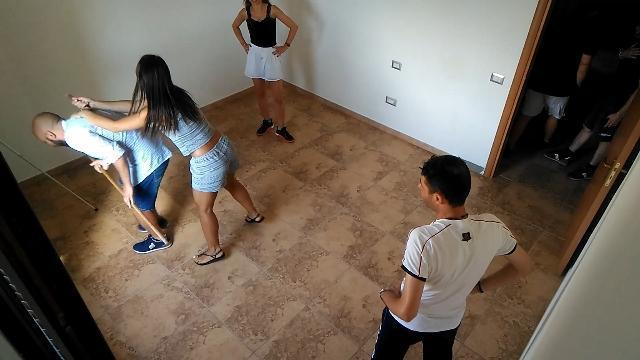non-violence: (376, 146, 518, 360), (542, 21, 640, 179), (504, 1, 597, 152), (232, 1, 300, 142)
violence: (31, 53, 265, 265)
